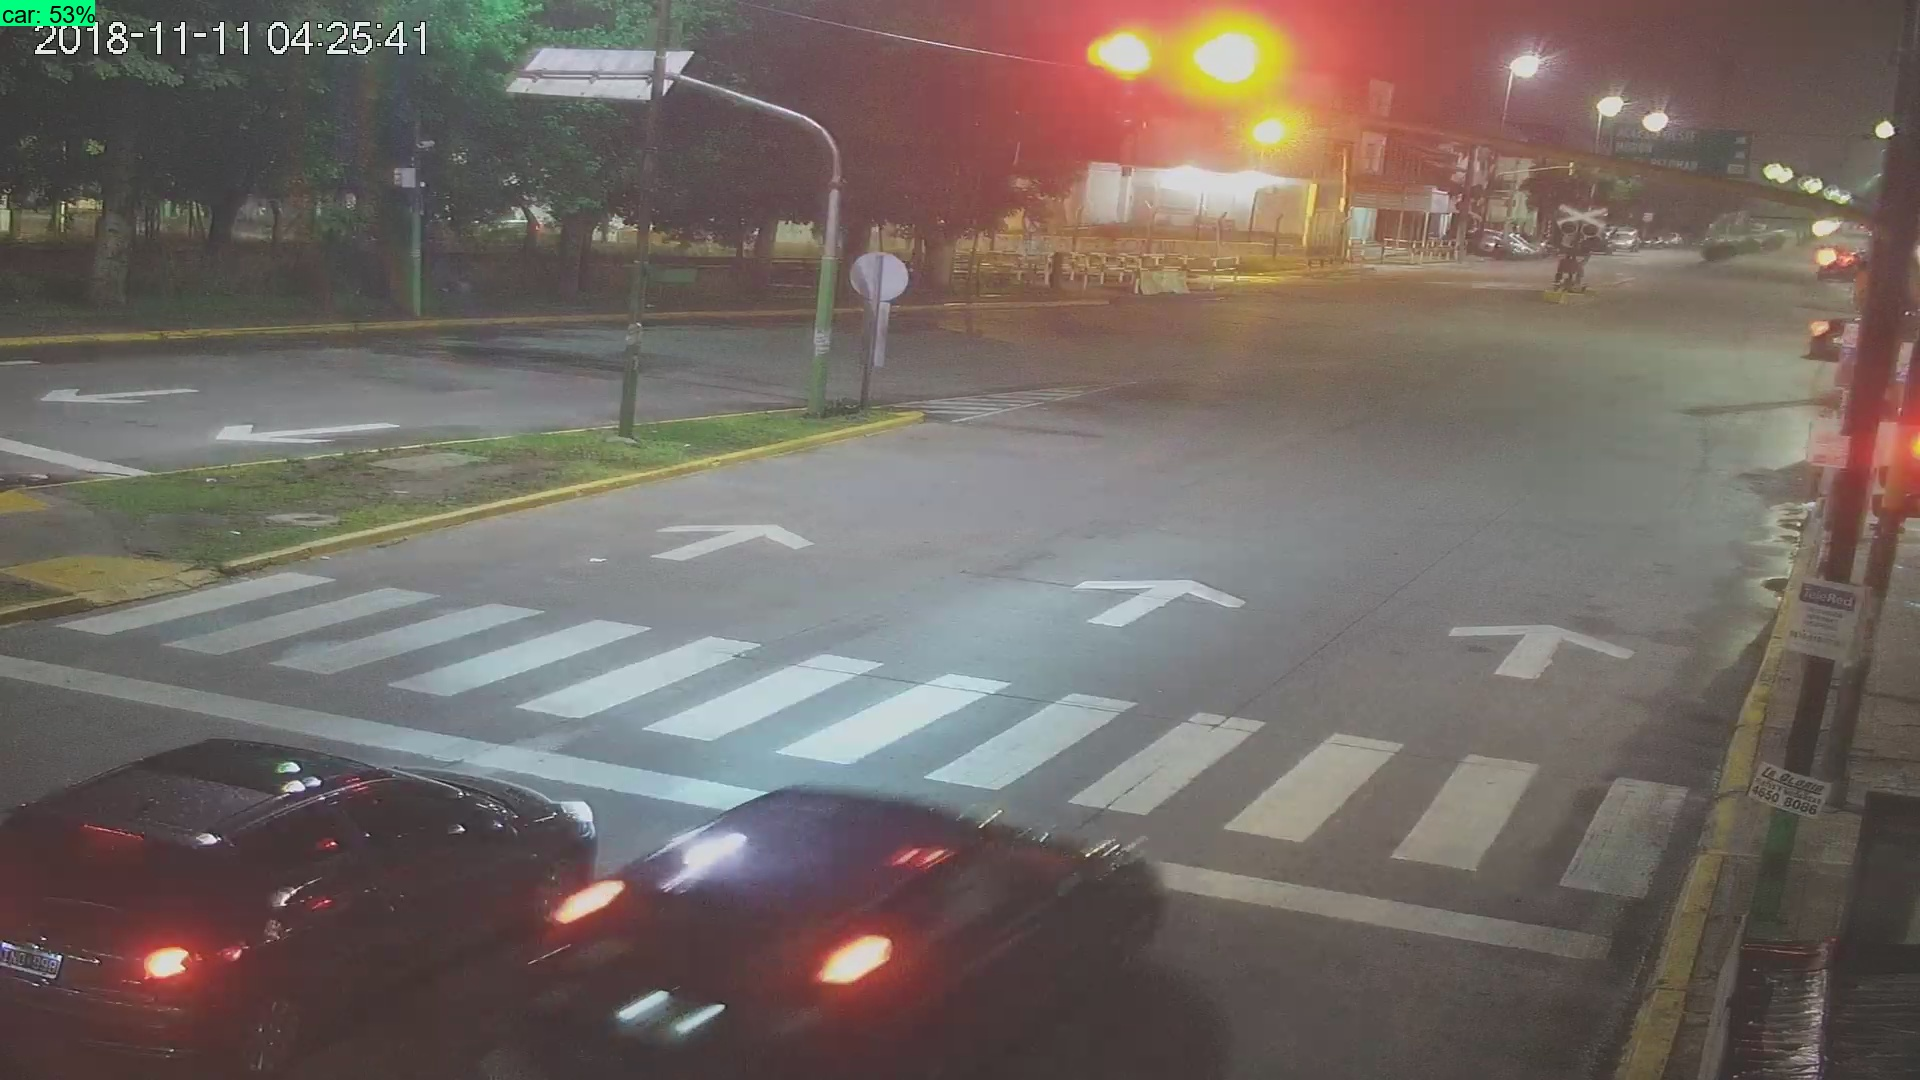car: (1, 735, 597, 1080), (545, 771, 1174, 1069)
